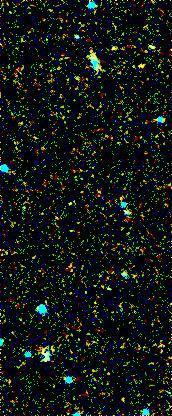star: (31, 343, 61, 373)
